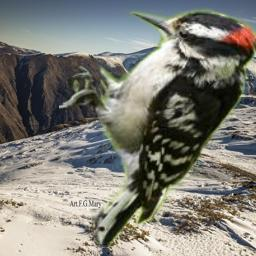Woodpecker: (59, 6, 256, 247)
